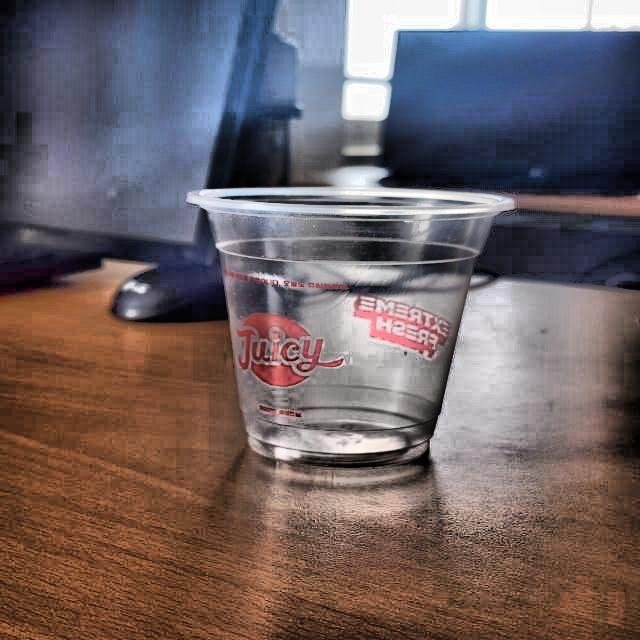plastic cup: (185, 184, 518, 471)
